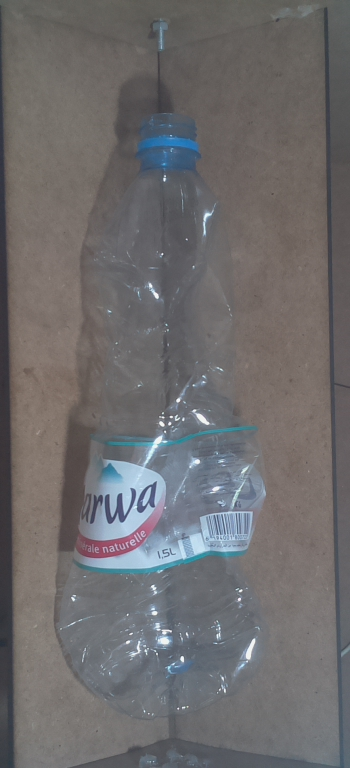Bouteille_1.5L: (52, 104, 285, 726)
